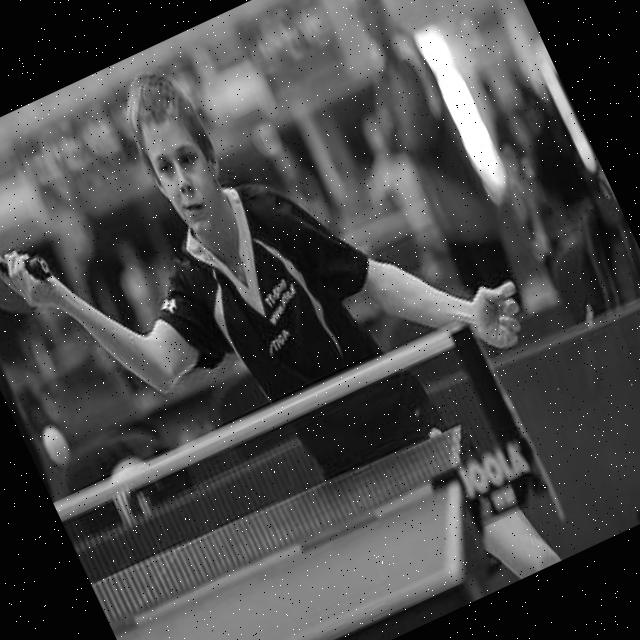ping-pong-ball: (34, 418, 74, 470)
